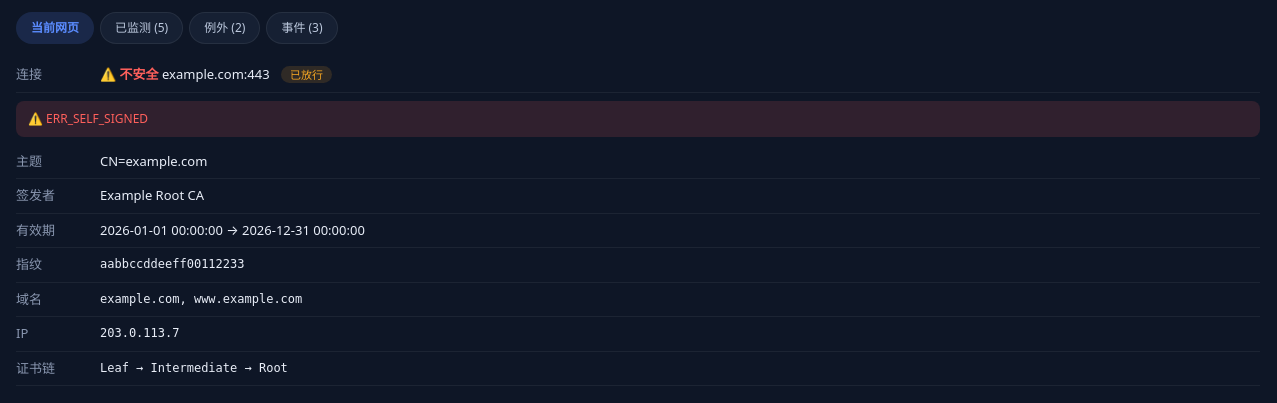
Test: 例外页签 › 渲染指纹截断 16 位 + 理由兜底 "—"
Click the button "例外 (2)" at (225, 28), box [189,12,260,44]
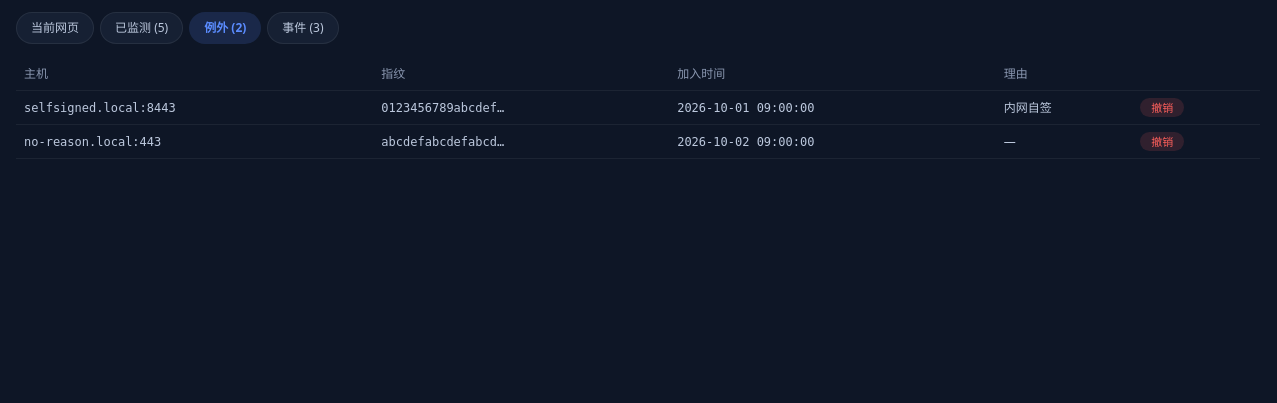
expect the cell "0123456789abcdef…" is shown: met, box [373,90,669,124]
expect the cell "内网自签" is shown: met, box [996,90,1132,124]
expect the cell "—" is shown: met, box [996,124,1132,158]
